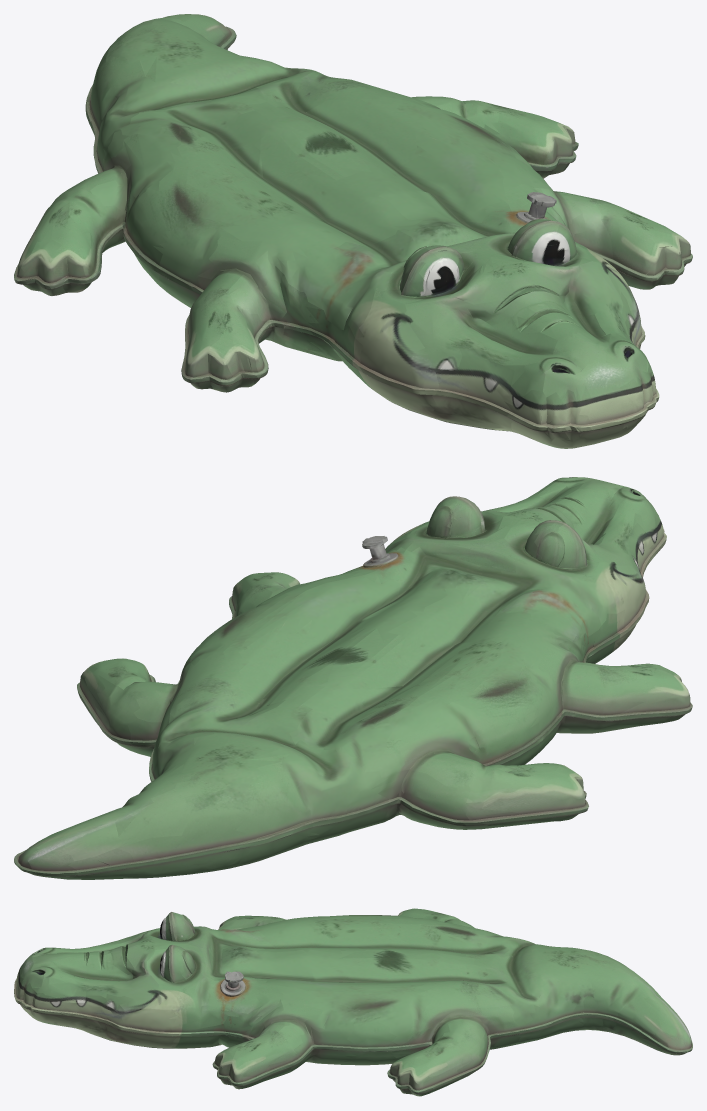
The model's file is coccodrillo_sgonfio.glb.
The picture shows the model from 3 angles, top to bottom: view 1: azimuth 30°, elevation 25°; view 2: azimuth 150°, elevation 25°; view 3: azimuth 270°, elevation 25°; orthographic projection. The views are drawn at different scales.
Parts seen in each view (by area): view 1: Mesh_0; view 2: Mesh_0; view 3: Mesh_0.
Boxes of the visible parts, left/top/right/bottom form: Mesh_0: left=14, top=14, right=692, bottom=448; Mesh_0: left=14, top=477, right=692, bottom=879; Mesh_0: left=14, top=908, right=692, bottom=1096.
Bounding box in the file's own units: 1.15 × 0.2602 × 1.9.
Materials: 1 (1 with a texture image).
